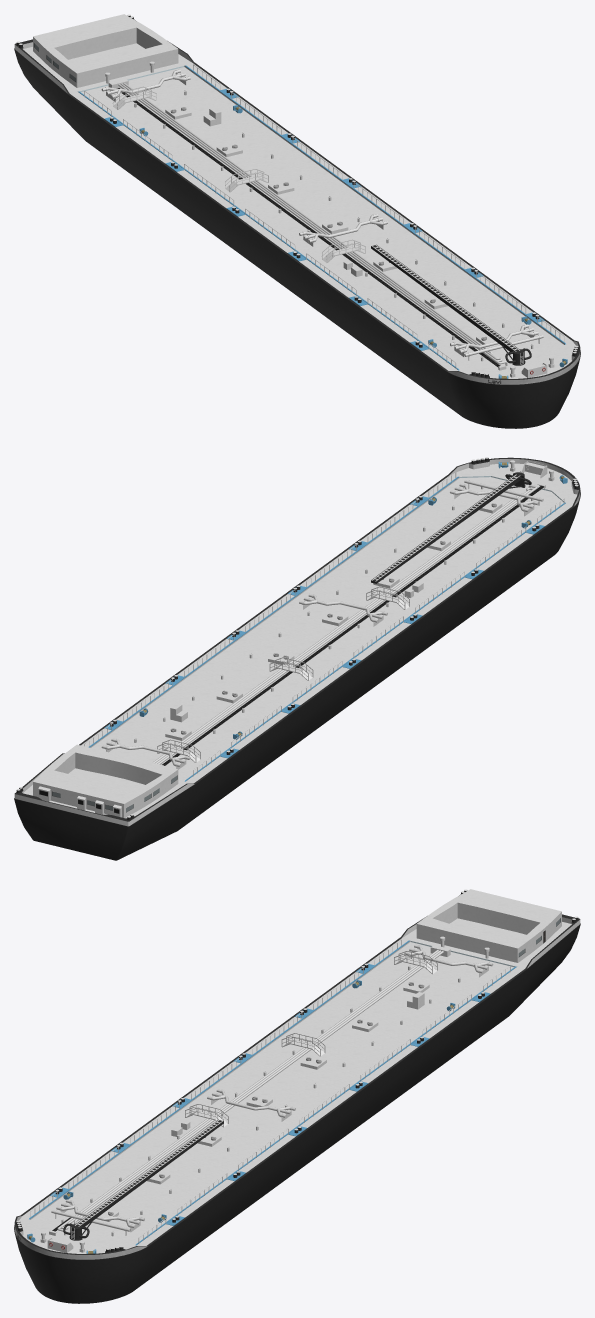
Rendered from Bunkertanker_04.fbx.
3 renders of one model, top to bottom at view 1: azimuth 30°, elevation 25°; view 2: azimuth 150°, elevation 25°; view 3: azimuth 330°, elevation 25°, orthographic.
Visible parts, largest first — view 1: Bunkertanker, laden/lossen, Hekje001, Hekje, Buis3end_002, Buis3end_003; view 2: Bunkertanker, laden/lossen, Hekje001, Hekje, Buis3end_002, Buis3end_003; view 3: Bunkertanker, laden/lossen, Hekje, Hekje001, Buis3end_002, Buis3end_003.
Part boxes in pixels (box(x1,y1,x2,y2)): Bunkertanker: box(14, 14, 580, 428); laden/lossen: box(371, 244, 520, 351); Hekje001: box(84, 91, 456, 368); Hekje: box(193, 64, 564, 341); Buis3end_002: box(299, 214, 387, 246); Buis3end_003: box(101, 69, 190, 102); Bunkertanker: box(14, 457, 580, 860); laden/lossen: box(371, 474, 521, 583); Hekje001: box(193, 498, 564, 776); Hekje: box(84, 472, 456, 746); Buis3end_002: box(299, 593, 387, 626); Buis3end_003: box(101, 738, 190, 769); Bunkertanker: box(14, 889, 580, 1303); laden/lossen: box(74, 1119, 223, 1226); Hekje: box(138, 966, 510, 1243); Hekje001: box(30, 939, 401, 1216); Buis3end_002: box(207, 1089, 295, 1121); Buis3end_003: box(404, 944, 493, 977).
Size of the model in its own units: 23 by 11.3 by 148.
